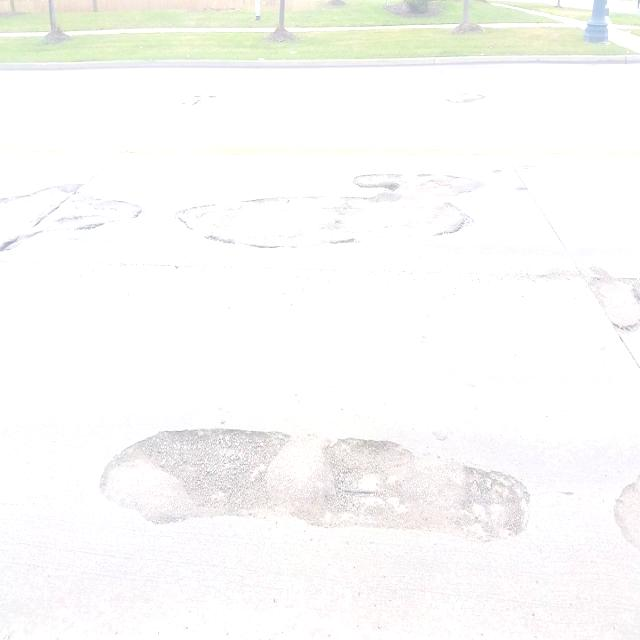Pothole: (97, 424, 531, 560)
